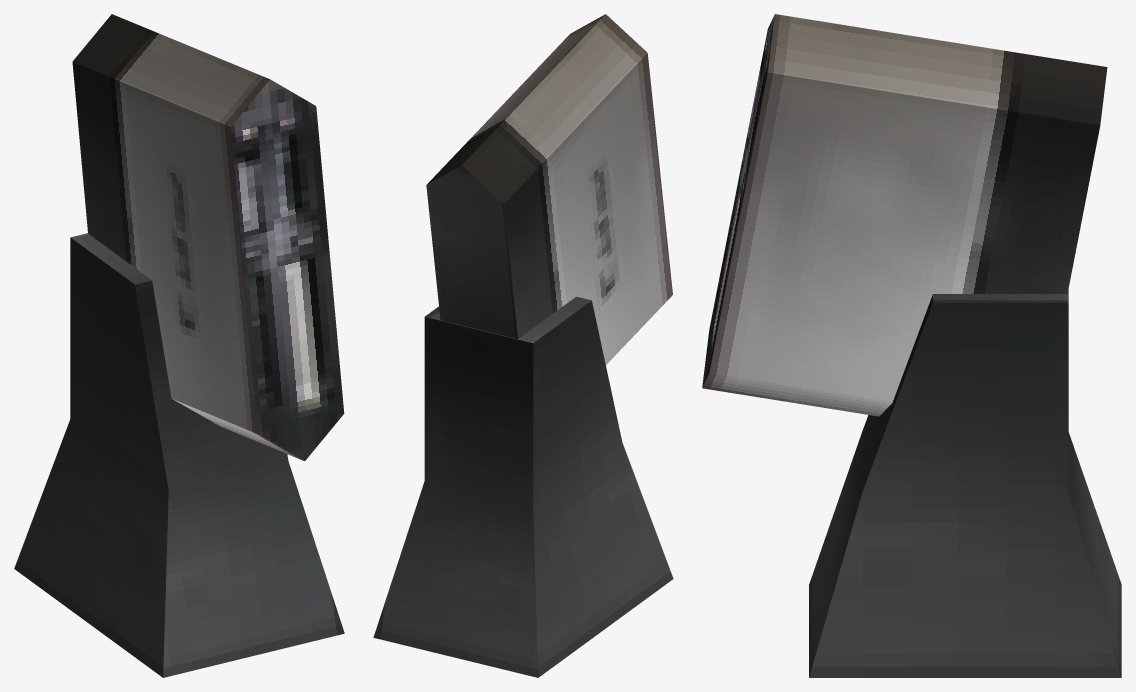
Rendered from smartcardreader.fbx.
3 views of the same model, side by side, from view 1: azimuth 30°, elevation 25°; view 2: azimuth 150°, elevation 25°; view 3: azimuth 270°, elevation 25° (orthographic). The views are drawn at different scales.
Visible parts, largest first — view 1: cardreader; view 2: cardreader; view 3: cardreader.
Part boxes in pixels (x1,y1,x2,y2): cardreader: (14, 14, 344, 677); cardreader: (373, 14, 673, 677); cardreader: (702, 14, 1121, 677).
Size of the model in its own units: 9.76 by 30.2 by 18.6.
